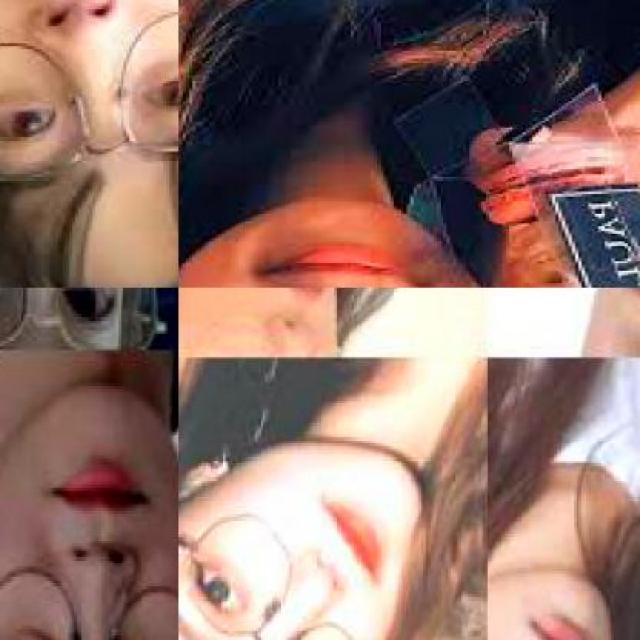glasses: (0, 0, 177, 192), (178, 514, 402, 638), (0, 578, 177, 638)
